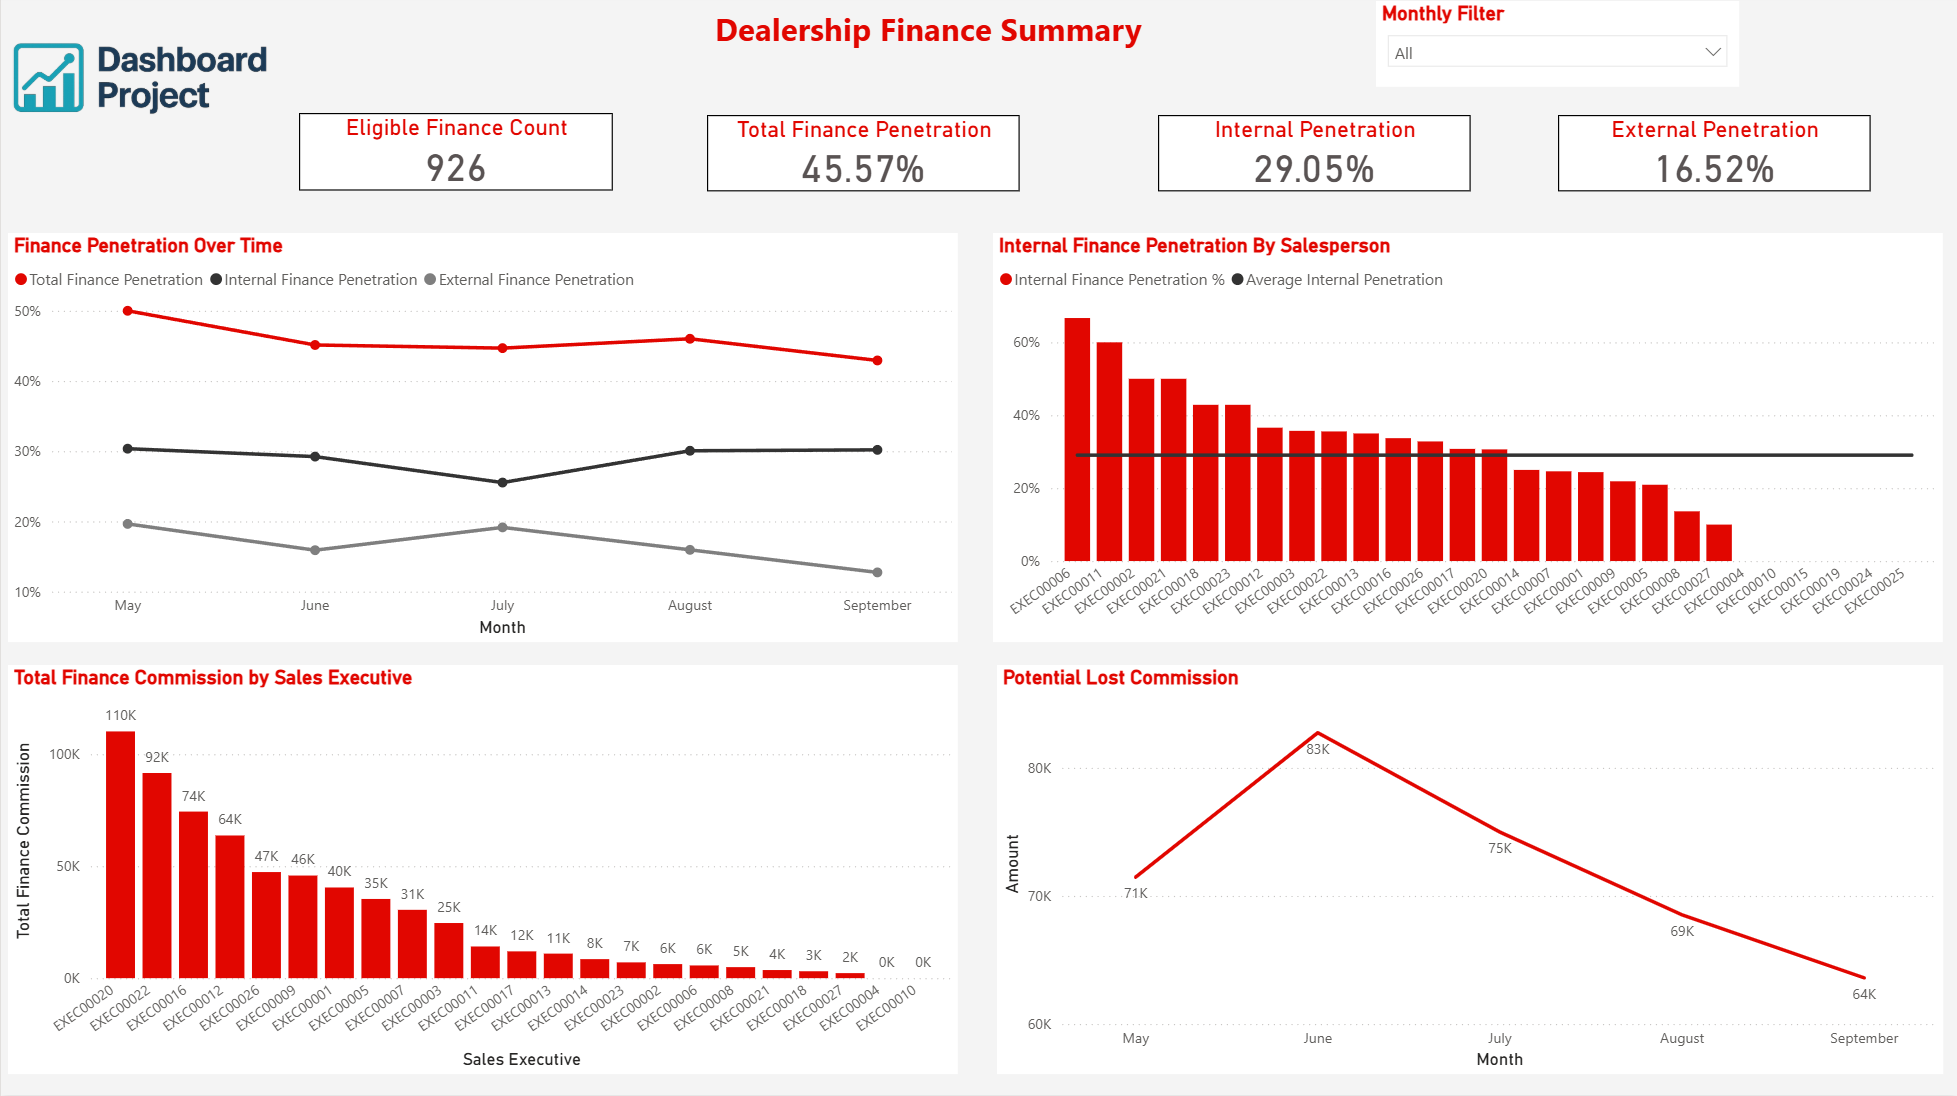

What the dashboard file says about the page in this screenshot:
{"tool":"powerbi","page":{"name":"Finance Summary","canvas":[1664,936],"ordinal":2},"visuals":[{"type":"textbox","box":[602,5.4,603.4,72.4],"z":1000},{"type":"card","title":"Eligible Finance Count","fields":{"Values":["Saved Measures.Eligible Finance Count"]},"box":[253.4,100.6,266.8,65.7],"z":2000},{"type":"card","title":"Total Finance Penetration","fields":{"Values":["Saved Measures.Total Finance Penetration %"]},"box":[600.9,101.7,265.8,64.7],"z":3000},{"type":"card","title":"Internal Penetration","fields":{"Values":["Saved Measures.Internal Finance Penetration %"]},"box":[984.5,101.7,265.8,64.7],"z":4000},{"type":"card","title":"External Penetration","fields":{"Values":["Saved Measures.External Finance Penetration %"]},"box":[1324.3,101.7,265.8,64.7],"z":5000},{"type":"lineChart","title":"Finance Penetration Over Time","fields":{"Y":["Saved Measures.Total Finance Penetration %","Saved Measures.Internal Finance Penetration %","Saved Measures.External Finance Penetration %"],"Category":["DateTable.Month"]},"box":[6.4,202.3,808.4,348.4],"z":6000},{"type":"lineClusteredColumnComboChart","title":"Internal Finance Penetration By Salesperson","fields":{"Category":["Sales_Combined.Sales Executive"],"Y":["Saved Measures.Internal Finance Penetration %"],"Y2":["Saved Measures.Weighted Internal Penetration % (Overall)"]},"box":[843.8,202.3,808.4,348.4],"z":7000},{"type":"lineChart","title":"Potential Lost Commission","fields":{"Category":["DateTable.Month"],"Y":["Saved Measures.Potential Lost Commission"]},"box":[847.4,569.8,804.8,348.4],"z":8000},{"type":"clusteredColumnChart","fields":{"Category":["Sales_Combined.Sales Executive"],"Y":["Saved Measures.Total Finance Commission"]},"box":[6.4,569.8,808.4,348.4],"z":9000},{"type":"slicer","title":"Monthly Filter","fields":{"Values":["DateTable.Month"]},"box":[1169.5,5.4,309.4,72.6],"z":10000},{"type":"image","box":[0,0,239.9,149.7],"z":10001}]}

Visuals, with their boxes in screenshot pixels (x1, y1, x2, y2), scaled from the page's 1664x936 canvas onto the 1957x1096 screenshot:
textbox: {"x1": 708, "y1": 6, "x2": 1418, "y2": 91}
"Eligible Finance Count" card: {"x1": 298, "y1": 118, "x2": 612, "y2": 195}
"Total Finance Penetration" card: {"x1": 707, "y1": 119, "x2": 1019, "y2": 195}
"Internal Penetration" card: {"x1": 1158, "y1": 119, "x2": 1470, "y2": 195}
"External Penetration" card: {"x1": 1557, "y1": 119, "x2": 1870, "y2": 195}
"Finance Penetration Over Time" lineChart: {"x1": 8, "y1": 237, "x2": 958, "y2": 645}
"Internal Finance Penetration By Salesperson" lineClusteredColumnComboChart: {"x1": 992, "y1": 237, "x2": 1943, "y2": 645}
"Potential Lost Commission" lineChart: {"x1": 997, "y1": 667, "x2": 1943, "y2": 1075}
clusteredColumnChart - Sales_Combined.Sales Executive x Saved Measures.Total Finance Commission: {"x1": 8, "y1": 667, "x2": 958, "y2": 1075}
"Monthly Filter" slicer: {"x1": 1375, "y1": 6, "x2": 1739, "y2": 91}
image: {"x1": 0, "y1": 0, "x2": 282, "y2": 175}
